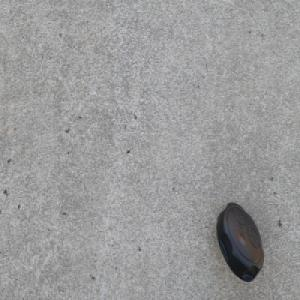FuelCap: (215, 201, 264, 283)
